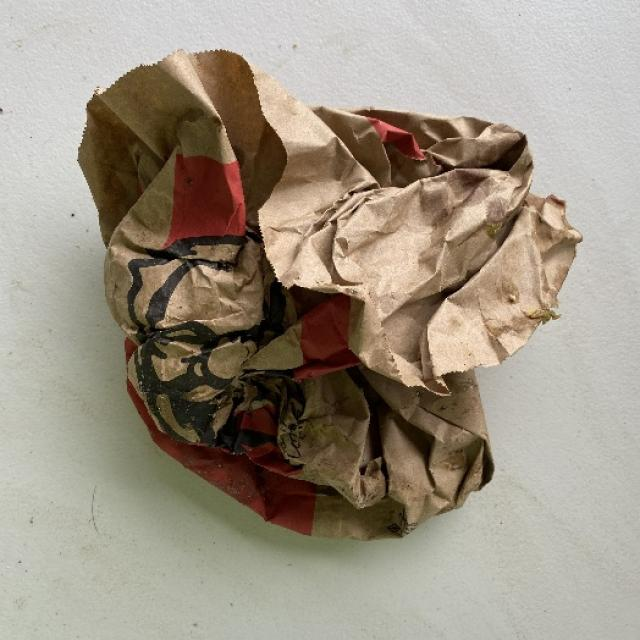paper: (76, 46, 581, 541)
